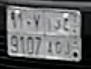0: (27, 20, 34, 55)
1: (18, 13, 26, 56)
7: (34, 14, 42, 57)
9: (10, 12, 19, 54)
A: (46, 19, 54, 55)
G: (54, 20, 62, 56)
J: (63, 18, 72, 55)
